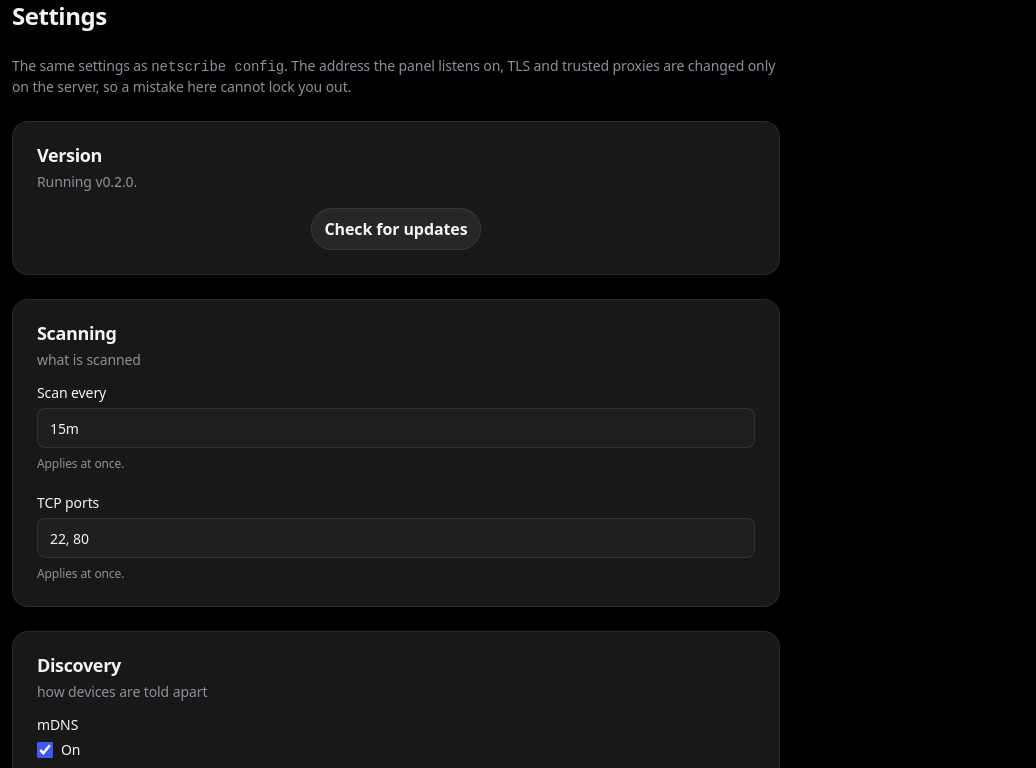
Test: Settings › keeps Save disabled until something changes
Click the checkbox labelled "mDNS" at (45,750), box [37,742,53,758]
(page scrolled)
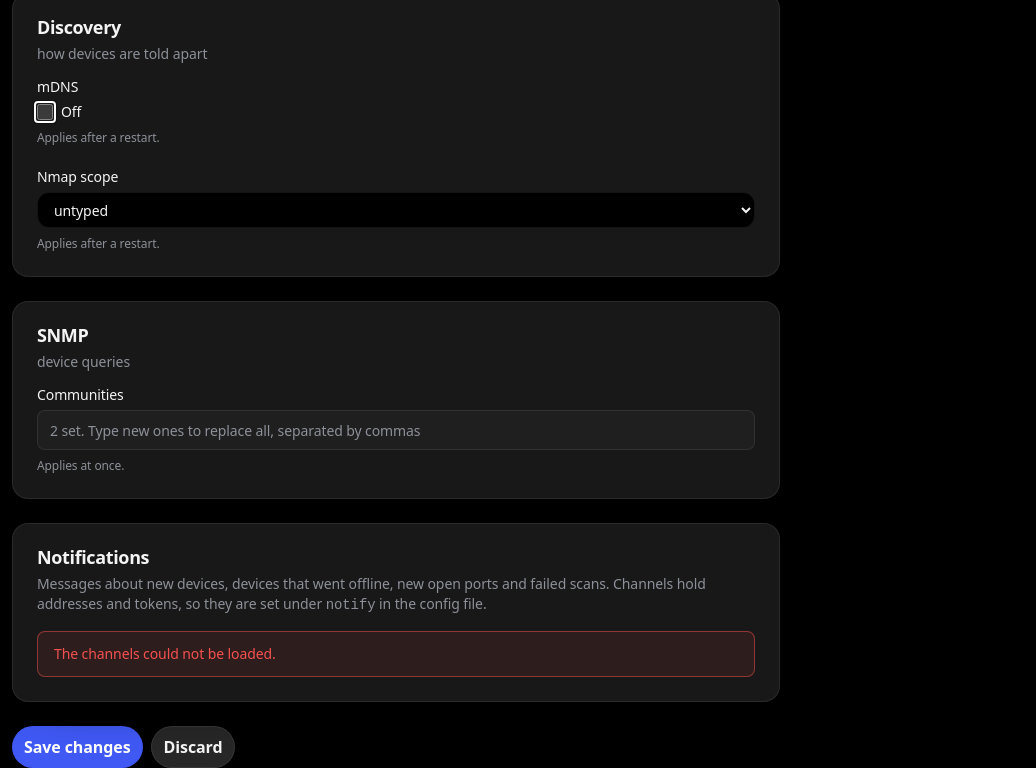
Expected: the button "Save changes" is enabled, [12,726,142,767]
Click the button "Discard" at (193,747), box [150,726,236,767]
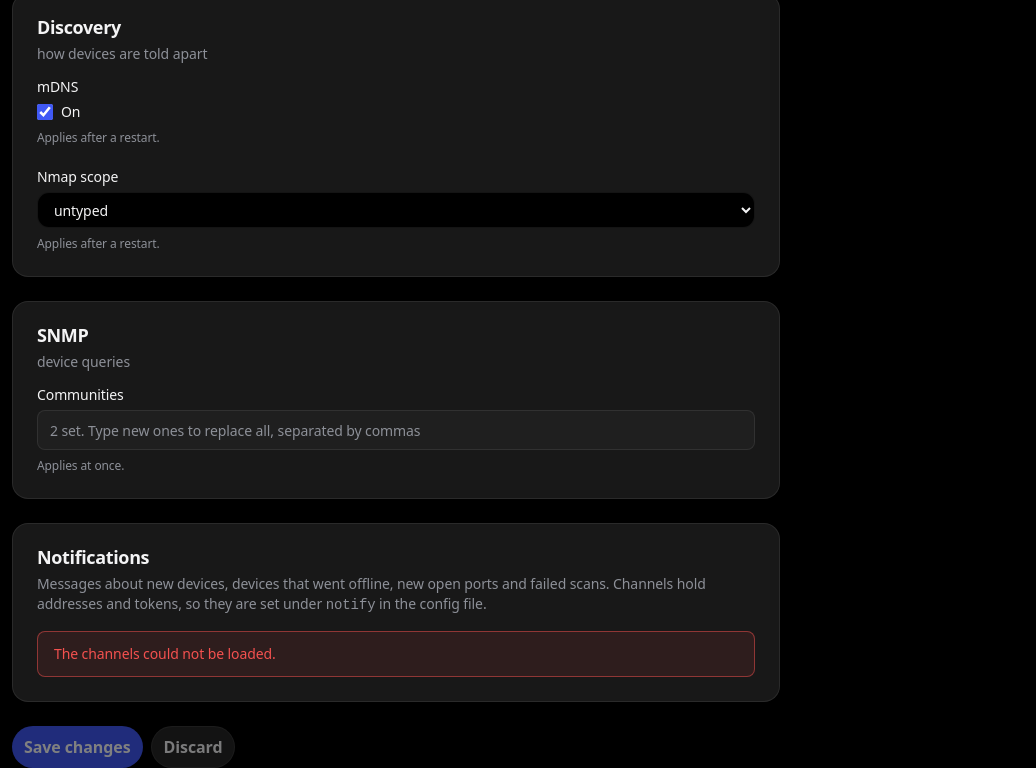
Expected: the button "Save changes" is disabled, [12,726,142,767]
